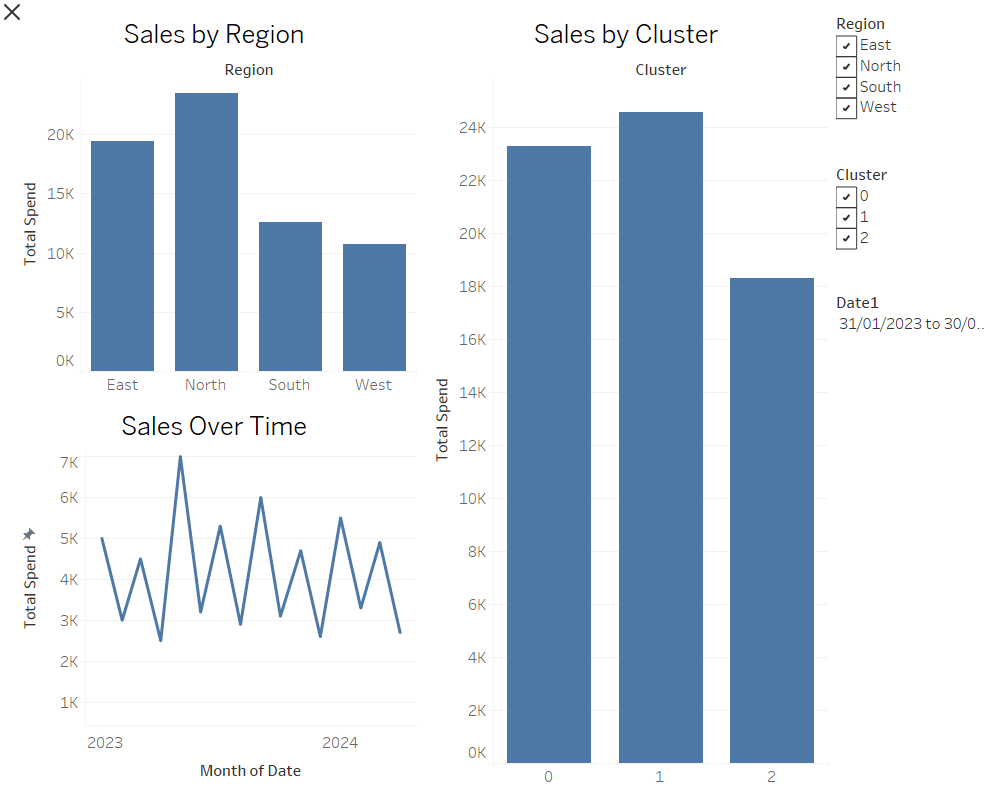

This screenshot's page, from the dashboard's own definition file:
{"tool":"tableau","page":{"name":"Sales Performance Dashboard","canvas":[1000,800],"ordinal":3},"visuals":[{"type":"dashboard-object","box":[0,0,24,24]},{"type":"worksheet","title":"Sales by Region","mark":"Automatic","rows":["Total_Spend"],"cols":["Region"],"box":[8,8,412,392]},{"type":"worksheet","title":"Sales by Cluster","mark":"Bar","rows":["Total_Spend"],"cols":["Cluster"],"box":[420,8,412,784]},{"type":"filter","title":"Sales by Region","param":"[federated.11ih5ec0t91gwg18vyc5h02emr7c].[none:Region:nk]","box":[832,8,160,151]},{"type":"filter","title":"Sales by Cluster","param":"[federated.11ih5ec0t91gwg18vyc5h02emr7c].[none:Cluster:ok]","box":[832,159,160,128]},{"type":"filter","title":"Sales Over Time","param":"[federated.11ih5ec0t91gwg18vyc5h02emr7c].[none:Date:qk]","box":[832,287,160,73]},{"type":"worksheet","title":"Sales Over Time","mark":"Line","rows":["Total_Spend"],"cols":["Date"],"box":[8,400,412,392]}]}

Visuals, with their boxes in screenshot pixels (x1, y1, x2, y2), scaled from the page's 1000x800 canvas onto the 1000x800 screenshot:
dashboard-object: <box>0,0,24,24</box>
"Sales by Region" worksheet: <box>8,8,420,400</box>
"Sales by Cluster" worksheet (Bar marks): <box>420,8,832,792</box>
"Sales by Region" filter: <box>832,8,992,159</box>
"Sales by Cluster" filter: <box>832,159,992,287</box>
"Sales Over Time" filter: <box>832,287,992,360</box>
"Sales Over Time" worksheet (Line marks): <box>8,400,420,792</box>
